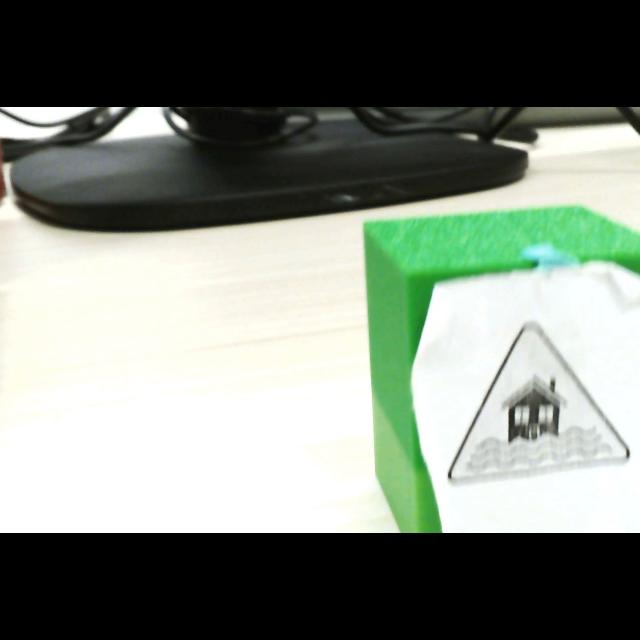Tsunami: (448, 321, 630, 485)
